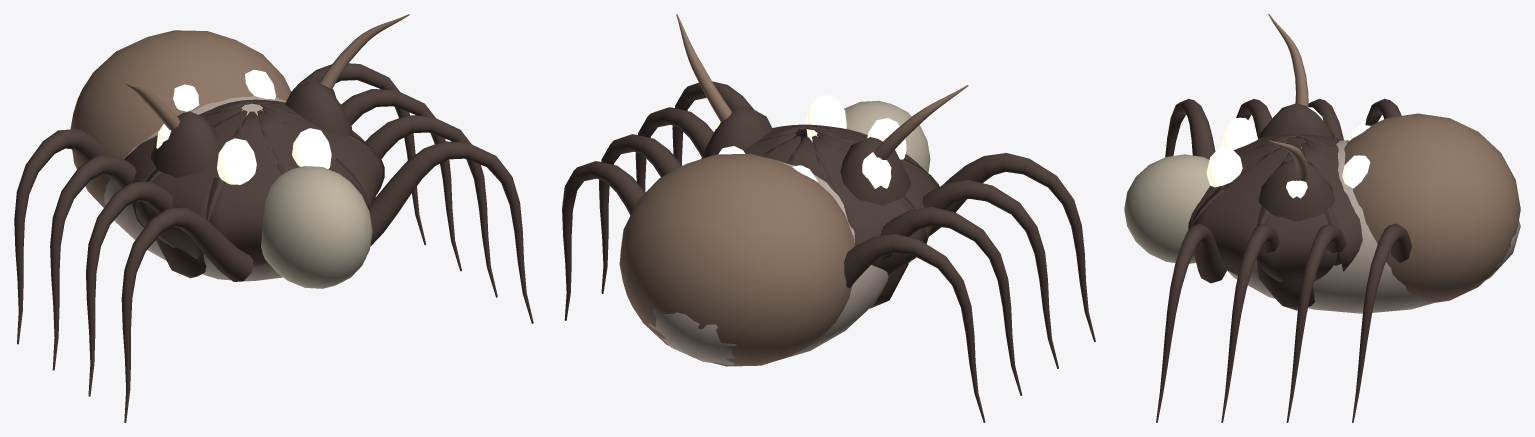
File: matriarch.glb
3 views of the same model, side by side, from view 1: azimuth 30°, elevation 25°; view 2: azimuth 150°, elevation 25°; view 3: azimuth 270°, elevation 25° (orthographic). The views are drawn at different scales.
Parts seen in each view (by area): view 1: Brood chamber, Remembered armor, Nursery reshaping limb, Nursery reshaping limb.001, Remembered spore, Nursery reshaping limb.007, Nursery reshaping limb.003, Nursery reshaping limb.005, Nursery reshaping limb.002, Nursery reshaping limb.004, EnemyCore, Growing memory.006 (+1 smaller); view 2: Brood chamber, Remembered armor, EnemyCore, Nursery reshaping limb.007, Nursery reshaping limb.001, Nursery reshaping limb.005, Nursery reshaping limb.003, Remembered spore, Nursery reshaping limb.006, Nursery reshaping limb.004, Growing memory.006, Nursery reshaping limb.002 (+1 smaller); view 3: Brood chamber, Remembered armor, EnemyCore, Remembered spore, Nursery reshaping limb, Nursery reshaping limb.006, Nursery reshaping limb.004, Nursery reshaping limb.002, Nursery reshaping limb.001, Growing memory.006, Nursery reshaping limb.003, Nursery reshaping limb.005 (+1 smaller).
Part boxes in pixels (<box>): Brood chamber: <box>70,30,384,288</box>; Remembered armor: <box>151,81,352,278</box>; Nursery reshaping limb: <box>370,141,533,323</box>; Nursery reshaping limb.001: <box>121,207,253,422</box>; Remembered spore: <box>156,70,340,184</box>; Nursery reshaping limb.007: <box>14,129,105,344</box>; Nursery reshaping limb.003: <box>86,181,172,396</box>; Nursery reshaping limb.005: <box>50,155,136,370</box>; Nursery reshaping limb.002: <box>365,115,497,297</box>; Nursery reshaping limb.004: <box>341,89,461,271</box>; EnemyCore: <box>104,96,286,281</box>; Growing memory.006: <box>125,14,409,130</box>; Brood chamber: <box>619,100,939,366</box>; Remembered armor: <box>704,106,910,308</box>; EnemyCore: <box>649,161,888,364</box>; Nursery reshaping limb.007: <box>844,234,985,422</box>; Nursery reshaping limb.001: <box>929,153,1095,341</box>; Nursery reshaping limb.005: <box>880,207,1022,395</box>; Nursery reshaping limb.003: <box>922,180,1058,368</box>; Remembered spore: <box>715,95,906,188</box>; Nursery reshaping limb.006: <box>562,161,645,320</box>; Nursery reshaping limb.004: <box>599,134,682,293</box>; Growing memory.006: <box>676,14,968,159</box>; Nursery reshaping limb.002: <box>635,107,713,191</box>; Brood chamber: <box>1124,113,1520,302</box>; Remembered armor: <box>1256,103,1334,310</box>; EnemyCore: <box>1227,140,1520,313</box>; Remembered spore: <box>1206,107,1370,198</box>; Nursery reshaping limb: <box>1156,223,1227,422</box>; Nursery reshaping limb.006: <box>1352,223,1412,422</box>; Nursery reshaping limb.004: <box>1286,223,1346,422</box>; Nursery reshaping limb.002: <box>1221,223,1279,422</box>; Nursery reshaping limb.001: <box>1165,98,1215,159</box>; Growing memory.006: <box>1268,14,1308,180</box>; Nursery reshaping limb.003: <box>1236,99,1272,137</box>; Nursery reshaping limb.005: <box>1308,98,1343,140</box>.
Size of the model in its own units: 4.62 by 3.02 by 4.25.
